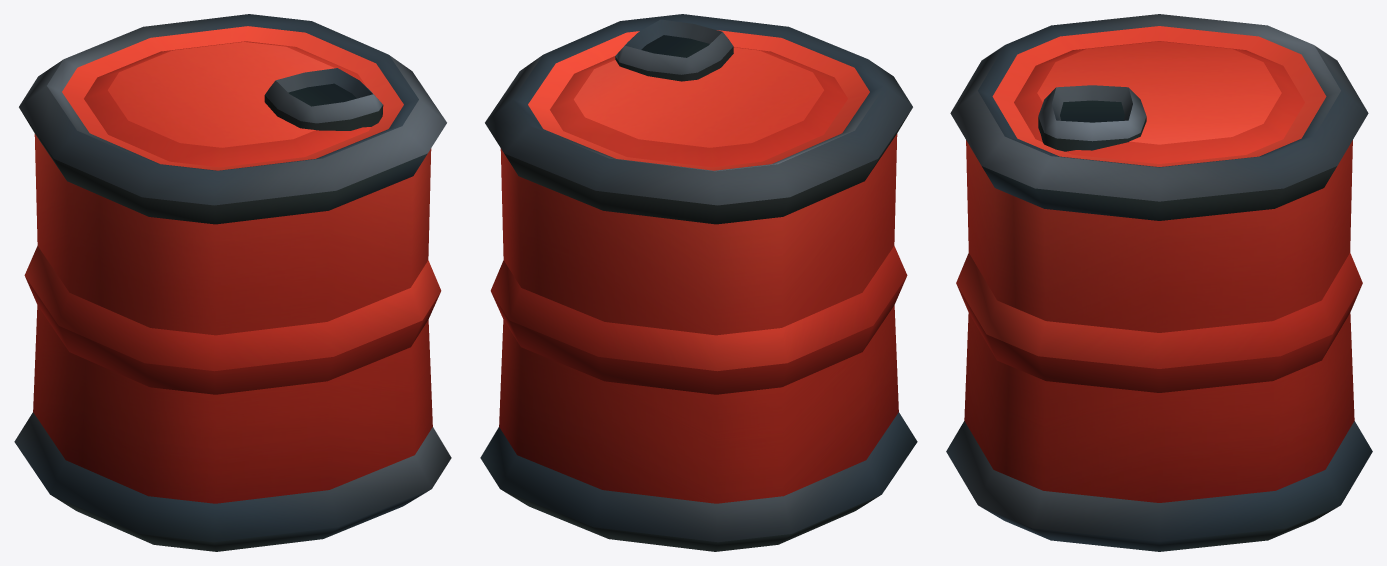
File: barrel_exploding.fbx
3 renders of one model, left to right at view 1: azimuth 30°, elevation 25°; view 2: azimuth 150°, elevation 25°; view 3: azimuth 270°, elevation 25°, orthographic.
Visible parts, largest first — view 1: barrel_exploding; view 2: barrel_exploding; view 3: barrel_exploding.
Boxes of the visible parts, x1,y1,x2,y2 form: barrel_exploding: [14, 14, 451, 551]; barrel_exploding: [480, 14, 917, 551]; barrel_exploding: [946, 14, 1372, 551].
Size of the model in its own units: 95.84 by 99.42 by 95.84.
